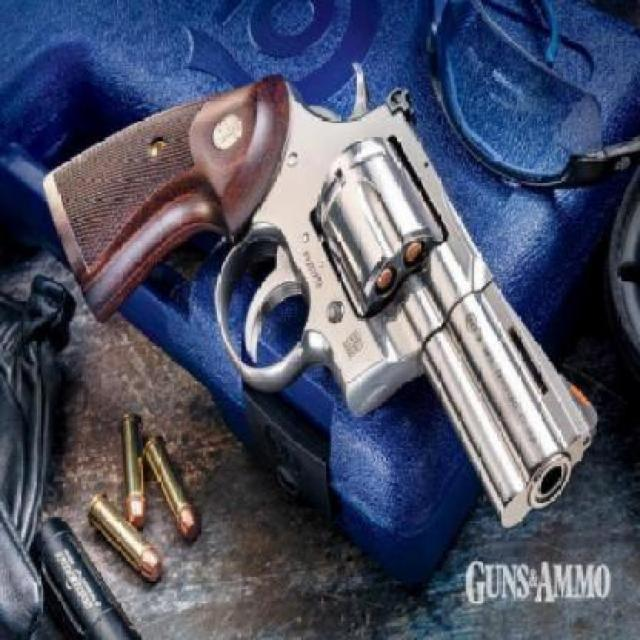gun: (36, 56, 613, 539)
